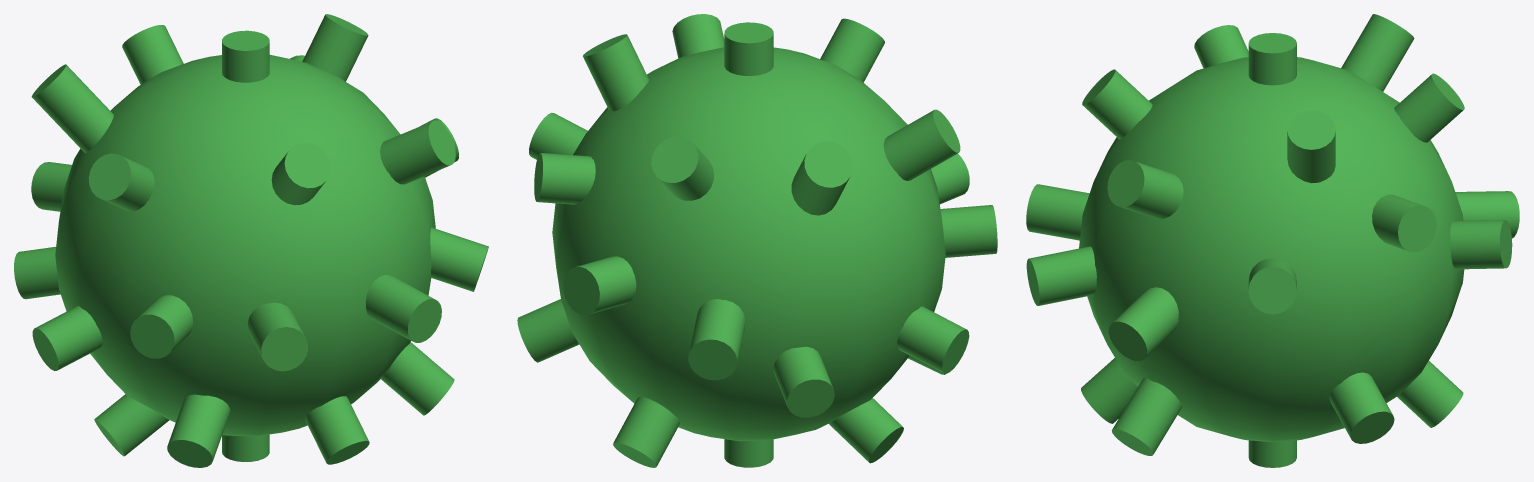
Rendered from coron.fbx.
3 renders of one model, left to right at view 1: azimuth 30°, elevation 25°; view 2: azimuth 150°, elevation 25°; view 3: azimuth 270°, elevation 25°, orthographic. The views are drawn at different scales.
Parts seen in each view (by area): view 1: $ColladaAutoName$_1, $ColladaAutoName$_7, $ColladaAutoName$_23, $ColladaAutoName$_22, $ColladaAutoName$_6, $ColladaAutoName$_8, $ColladaAutoName$_10, $ColladaAutoName$_2, $ColladaAutoName$_13, $ColladaAutoName$_24, $ColladaAutoName$_9, $ColladaAutoName$_16 (+8 smaller); view 2: $ColladaAutoName$_1, $ColladaAutoName$_19, $ColladaAutoName$_9, $ColladaAutoName$_17, $ColladaAutoName$_7, $ColladaAutoName$_12, $ColladaAutoName$_10, $ColladaAutoName$_5, $ColladaAutoName$_15, $ColladaAutoName$_14, $ColladaAutoName$_3, $ColladaAutoName$_18 (+8 smaller); view 3: $ColladaAutoName$_1, $ColladaAutoName$_11, $ColladaAutoName$_6, $ColladaAutoName$_2, $ColladaAutoName$_23, $ColladaAutoName$_7, $ColladaAutoName$_5, $ColladaAutoName$_4, $ColladaAutoName$_17, $ColladaAutoName$_3, $ColladaAutoName$_14, $ColladaAutoName$_16 (+8 smaller).
Boxes of the visible parts, x1,y1,x2,y2 form: $ColladaAutoName$_1: (55,55,435,436); $ColladaAutoName$_7: (31,64,113,153); $ColladaAutoName$_23: (365,275,441,342); $ColladaAutoName$_22: (167,394,230,467); $ColladaAutoName$_6: (380,120,455,184); $ColladaAutoName$_8: (247,302,307,371); $ColladaAutoName$_10: (32,306,102,370); $ColladaAutoName$_2: (380,342,454,415); $ColladaAutoName$_13: (305,396,369,464); $ColladaAutoName$_24: (130,295,193,358); $ColladaAutoName$_9: (88,153,154,211); $ColladaAutoName$_16: (271,143,330,205); $ColladaAutoName$_1: (552,47,945,441); $ColladaAutoName$_19: (688,299,745,380); $ColladaAutoName$_9: (883,109,960,180); $ColladaAutoName$_17: (563,256,636,314); $ColladaAutoName$_7: (791,141,852,215); $ColladaAutoName$_12: (773,346,834,417); $ColladaAutoName$_10: (897,306,969,373); $ColladaAutoName$_5: (583,34,648,111); $ColladaAutoName$_15: (613,397,679,467); $ColladaAutoName$_14: (651,136,713,200); $ColladaAutoName$_3: (534,152,595,204); $ColladaAutoName$_18: (829,398,903,463); $ColladaAutoName$_1: (1079,57,1464,442); $ColladaAutoName$_11: (1108,287,1178,360); $ColladaAutoName$_6: (1107,160,1183,218); $ColladaAutoName$_2: (1111,377,1182,455); $ColladaAutoName$_23: (1026,246,1096,305); $ColladaAutoName$_7: (1341,14,1414,91); $ColladaAutoName$_5: (1287,110,1335,183); $ColladaAutoName$_4: (1329,372,1394,443); $ColladaAutoName$_17: (1450,220,1512,269); $ColladaAutoName$_3: (1372,194,1436,252); $ColladaAutoName$_14: (1394,73,1464,142); $ColladaAutoName$_16: (1082,69,1152,139).
Bounding box in the file's own units: 123 × 118 × 127.
